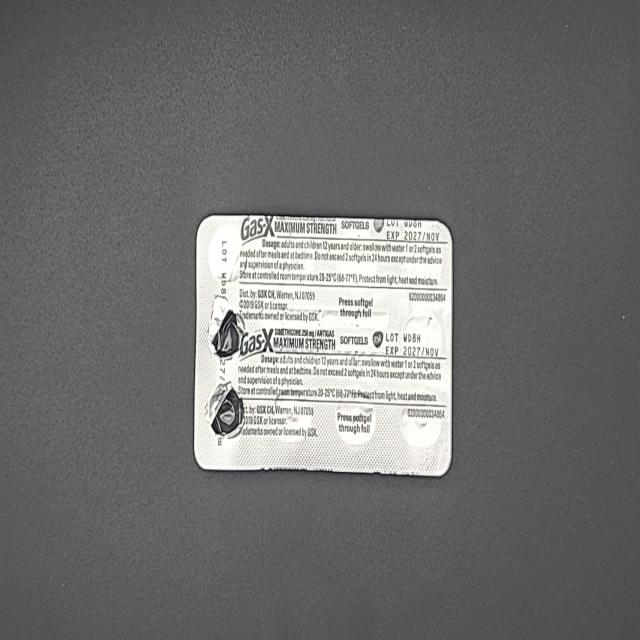defect: (200, 375, 247, 444), (206, 290, 246, 366)
